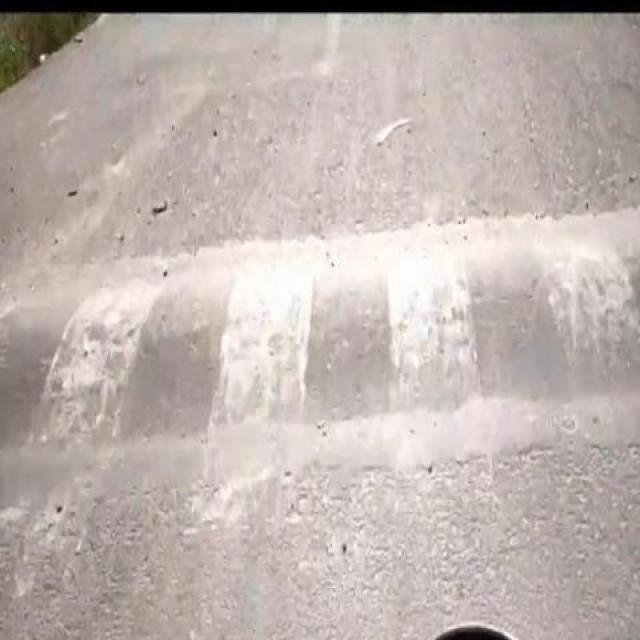Speed Bump: (0, 200, 639, 496)
